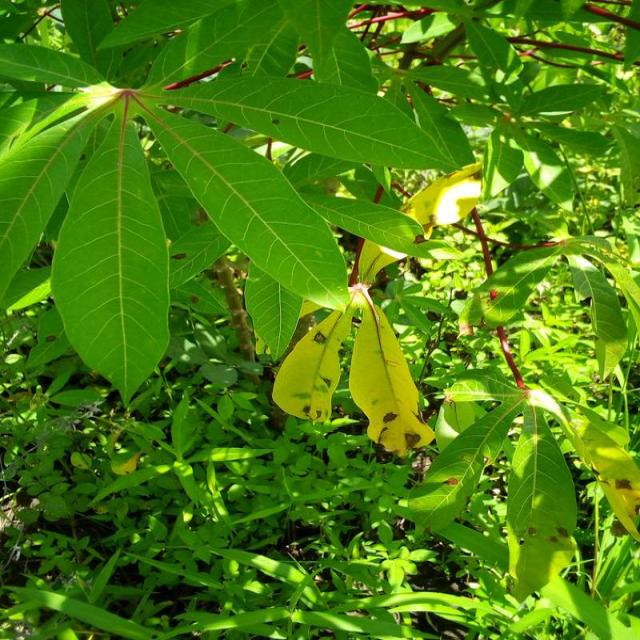cassava leaf: (49, 105, 171, 406), (504, 403, 578, 603), (347, 294, 435, 458), (270, 301, 354, 423)
